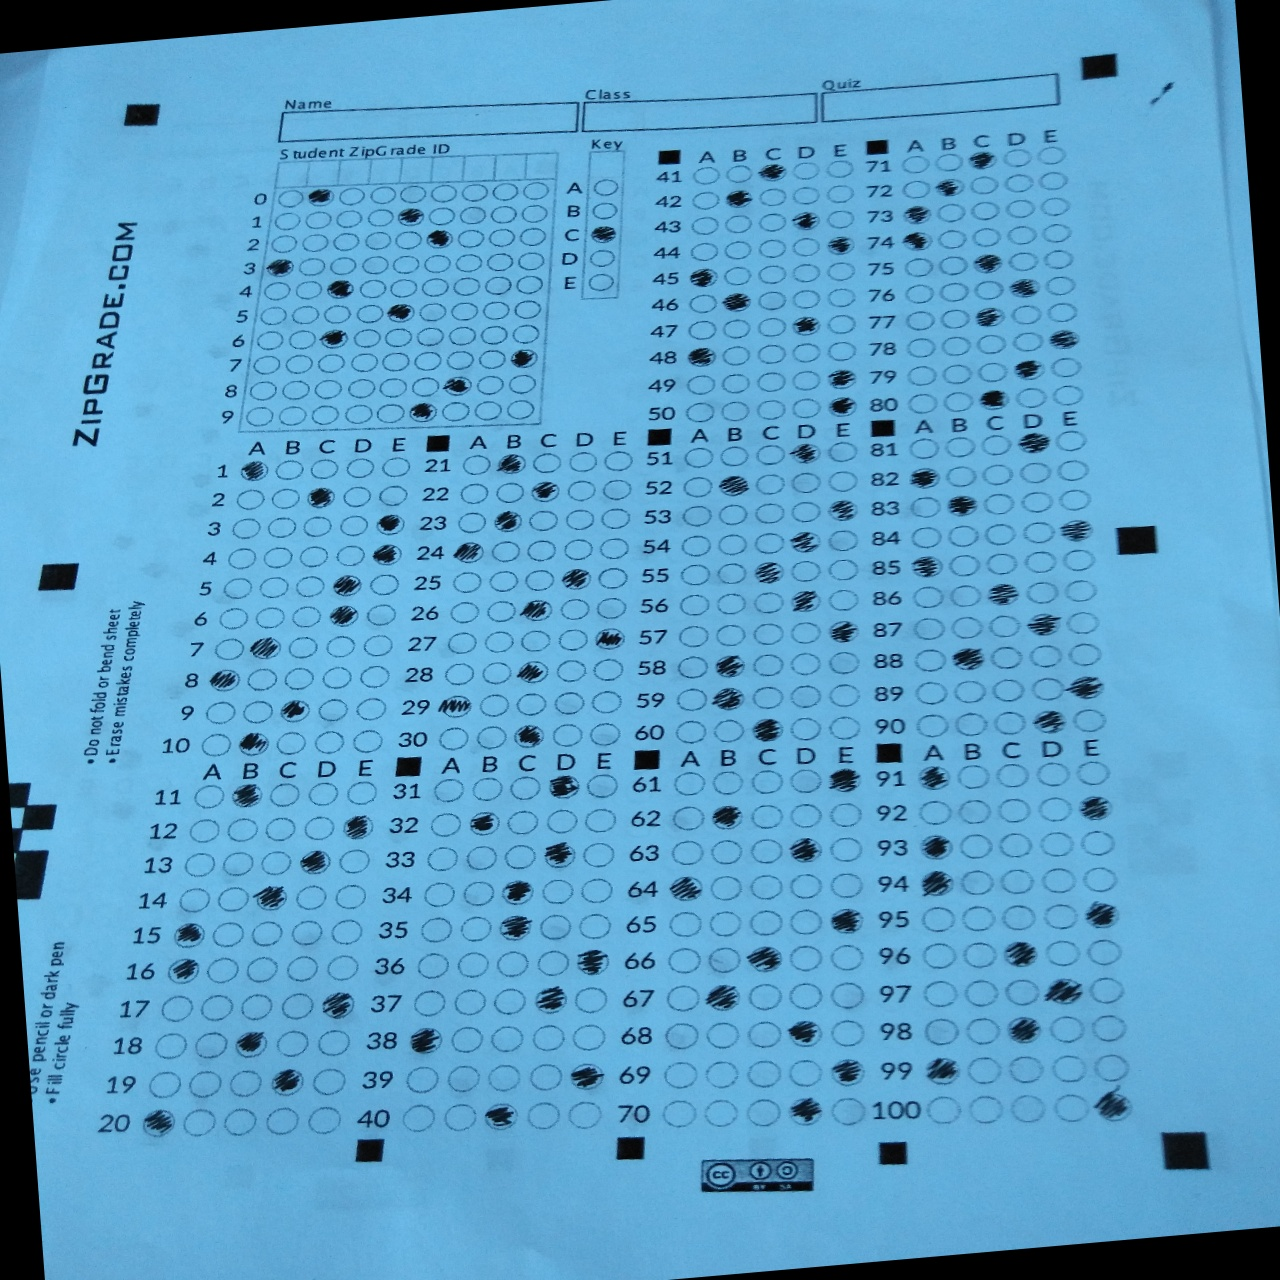not-c: (1006, 1051, 1047, 1087), (1090, 1051, 1132, 1085), (922, 1094, 964, 1126), (702, 1058, 741, 1092), (748, 765, 787, 799), (994, 760, 1033, 794), (828, 1095, 867, 1128), (828, 1017, 867, 1050), (745, 907, 785, 940), (745, 799, 785, 832), (1081, 863, 1121, 896), (1088, 1012, 1128, 1044), (965, 1092, 1005, 1125), (1007, 1092, 1047, 1125), (1051, 1092, 1091, 1125), (1048, 1053, 1088, 1085), (964, 1054, 1005, 1085), (955, 760, 993, 794), (744, 1096, 783, 1129), (707, 908, 745, 941), (706, 945, 744, 978), (745, 1017, 784, 1050), (826, 979, 865, 1012), (828, 942, 866, 975), (707, 872, 745, 905), (828, 799, 866, 832), (787, 799, 825, 832), (707, 835, 745, 867), (670, 768, 709, 801), (709, 767, 748, 799), (787, 765, 825, 798), (914, 796, 953, 829), (956, 829, 995, 862), (994, 795, 1033, 828), (1075, 756, 1114, 789), (959, 903, 998, 935), (920, 938, 959, 971), (1043, 937, 1082, 969), (1041, 899, 1080, 932), (999, 901, 1037, 934), (921, 978, 960, 1010), (787, 980, 826, 1012), (787, 942, 826, 974), (745, 871, 785, 903), (747, 835, 787, 866), (1039, 828, 1078, 859), (1046, 1014, 1085, 1046), (962, 1015, 1002, 1047), (921, 1016, 961, 1048), (577, 908, 614, 941), (413, 949, 450, 982), (744, 1057, 782, 1090), (787, 870, 824, 903), (828, 869, 865, 901), (956, 794, 994, 826), (996, 829, 1034, 862), (998, 865, 1035, 898), (962, 976, 1000, 1009), (785, 1058, 824, 1090), (662, 983, 701, 1015), (663, 946, 702, 978), (665, 908, 703, 940), (704, 1020, 743, 1051), (747, 980, 785, 1012), (787, 907, 825, 939), (828, 833, 866, 865), (668, 837, 707, 869), (668, 803, 707, 835), (1034, 760, 1073, 791), (1036, 794, 1075, 825), (1040, 864, 1078, 896), (958, 865, 996, 897), (920, 903, 959, 934), (1085, 935, 1124, 967), (1087, 974, 1125, 1006), (712, 619, 750, 651), (288, 917, 325, 949), (279, 990, 315, 1023), (573, 983, 610, 1016), (442, 1101, 478, 1133), (427, 810, 464, 842), (538, 911, 576, 942), (503, 806, 540, 838), (204, 954, 241, 986), (181, 1107, 218, 1138), (238, 990, 275, 1022), (264, 1104, 301, 1136), (400, 1103, 437, 1135), (524, 1099, 561, 1131), (565, 1099, 602, 1131), (493, 948, 531, 980), (701, 1096, 738, 1128), (663, 1058, 701, 1090), (663, 1020, 701, 1051), (1080, 826, 1117, 858), (960, 939, 998, 971), (912, 678, 949, 709), (987, 611, 1024, 642), (1062, 576, 1099, 607), (787, 712, 824, 743), (674, 653, 712, 685), (1065, 640, 1104, 670), (186, 1067, 222, 1099), (328, 915, 365, 947), (247, 918, 284, 949), (468, 772, 504, 804), (506, 772, 543, 804), (580, 839, 617, 871), (578, 873, 614, 905), (539, 877, 576, 908), (502, 842, 538, 873), (463, 842, 499, 873), (458, 913, 495, 945), (198, 993, 234, 1024), (159, 993, 196, 1024), (222, 1107, 258, 1138), (402, 1064, 438, 1096), (444, 1063, 481, 1095), (484, 1062, 520, 1094), (410, 987, 447, 1019), (491, 986, 527, 1017), (450, 1024, 486, 1056), (661, 1098, 697, 1130), (1002, 976, 1039, 1008), (949, 612, 986, 644), (826, 712, 863, 743), (908, 520, 945, 552), (421, 880, 458, 911), (282, 953, 320, 983), (324, 953, 361, 983), (309, 1065, 347, 1096), (306, 1105, 343, 1136), (571, 1022, 608, 1053), (530, 1023, 567, 1054), (990, 708, 1028, 738), (952, 709, 989, 740), (952, 678, 989, 708), (911, 644, 948, 674), (674, 685, 712, 715), (787, 617, 824, 647), (431, 775, 467, 806), (583, 806, 618, 838), (154, 1030, 189, 1062), (193, 1029, 229, 1061), (229, 1068, 264, 1099), (274, 1027, 309, 1058), (315, 1027, 350, 1058), (544, 806, 580, 837), (459, 878, 496, 908), (209, 919, 245, 949), (533, 947, 570, 978), (454, 949, 490, 980), (452, 987, 489, 1017), (490, 1023, 526, 1054), (990, 674, 1027, 704), (1073, 704, 1109, 735), (751, 619, 788, 649), (913, 712, 951, 741), (910, 614, 947, 644), (1026, 641, 1063, 670), (710, 716, 748, 745), (673, 716, 710, 745), (674, 622, 712, 652), (910, 583, 947, 612), (749, 651, 787, 680), (418, 915, 454, 946), (424, 844, 459, 874), (584, 770, 619, 801), (529, 1062, 564, 1092), (1030, 673, 1065, 703), (147, 1070, 183, 1099), (245, 955, 281, 985), (988, 644, 1024, 673), (1064, 608, 1101, 638), (714, 590, 750, 619), (676, 591, 713, 620), (826, 586, 863, 615), (312, 728, 347, 757), (273, 729, 308, 758), (482, 628, 517, 658), (447, 599, 482, 628), (333, 883, 368, 912), (826, 648, 862, 678), (788, 682, 823, 712), (787, 649, 823, 678), (749, 685, 785, 713), (788, 469, 825, 496), (824, 467, 862, 493), (680, 444, 717, 471), (588, 688, 622, 717), (306, 779, 340, 809), (192, 783, 227, 811), (436, 724, 471, 753), (549, 720, 584, 748), (479, 659, 515, 687), (442, 660, 477, 688), (591, 656, 626, 685), (444, 629, 479, 658), (302, 813, 338, 842), (225, 816, 260, 844), (177, 886, 212, 914), (216, 886, 251, 914), (258, 849, 293, 877), (826, 681, 862, 709), (751, 588, 787, 617), (788, 558, 824, 585), (714, 559, 750, 586), (678, 560, 714, 587), (678, 532, 714, 559), (825, 527, 862, 554), (947, 583, 983, 610), (1024, 580, 1061, 607), (947, 552, 983, 579), (945, 522, 981, 549), (981, 520, 1017, 547), (1021, 518, 1057, 545), (1019, 489, 1055, 516), (981, 491, 1017, 518), (980, 462, 1016, 489), (942, 464, 979, 491), (907, 436, 944, 463), (978, 431, 1014, 458), (1055, 456, 1091, 483), (1015, 459, 1051, 486), (789, 497, 825, 524), (753, 499, 789, 526), (714, 501, 750, 527), (678, 503, 714, 530), (680, 475, 716, 502), (824, 438, 860, 465), (754, 441, 790, 468), (717, 442, 754, 469), (282, 663, 316, 692), (350, 727, 384, 755), (199, 731, 233, 760), (474, 723, 508, 751), (588, 721, 622, 749), (553, 689, 587, 717), (515, 690, 549, 719), (554, 627, 588, 655), (593, 594, 627, 622), (524, 567, 558, 595), (188, 817, 222, 845), (295, 883, 329, 911), (518, 628, 553, 655), (483, 599, 518, 626), (264, 816, 299, 843), (219, 850, 254, 877), (825, 557, 860, 584), (715, 531, 750, 558), (1023, 549, 1058, 576), (1061, 549, 1096, 576), (983, 551, 1019, 578), (942, 433, 978, 459), (1053, 427, 1088, 454), (1057, 486, 1092, 513), (908, 493, 944, 520), (753, 472, 789, 498), (268, 781, 301, 809), (225, 545, 259, 572), (287, 634, 321, 661), (358, 663, 392, 690), (477, 693, 511, 720), (554, 658, 588, 685), (595, 564, 629, 591), (343, 779, 377, 806), (183, 851, 217, 878), (338, 847, 372, 874), (753, 530, 787, 557), (294, 573, 327, 600), (321, 665, 354, 692), (241, 697, 274, 724), (557, 595, 590, 622), (486, 567, 519, 594), (599, 506, 632, 533), (457, 481, 490, 508), (493, 478, 526, 505), (567, 450, 600, 477), (686, 290, 719, 316), (903, 256, 935, 282), (975, 331, 1008, 358), (1037, 168, 1070, 195), (324, 633, 358, 659), (361, 632, 395, 658), (245, 666, 279, 692), (563, 508, 597, 533), (526, 508, 560, 533), (530, 450, 564, 476), (459, 451, 493, 477), (719, 342, 753, 368), (685, 318, 719, 343), (788, 287, 822, 313), (937, 278, 971, 304), (971, 225, 1005, 251), (935, 200, 969, 226), (1001, 145, 1035, 171), (1002, 170, 1036, 196), (968, 172, 1002, 198), (899, 177, 933, 203), (898, 151, 932, 177), (790, 234, 824, 260), (688, 238, 722, 264), (687, 212, 721, 238), (217, 606, 248, 633), (722, 159, 754, 186), (343, 455, 376, 481), (234, 486, 267, 512), (366, 602, 399, 628), (290, 604, 322, 629), (213, 636, 246, 662), (203, 700, 236, 726), (316, 697, 349, 723), (354, 696, 387, 722), (450, 570, 483, 595), (561, 537, 594, 563), (597, 536, 629, 561), (455, 510, 488, 536), (565, 478, 598, 504), (601, 477, 634, 503), (602, 448, 635, 474), (719, 399, 751, 424), (754, 396, 787, 422), (789, 395, 822, 421), (790, 340, 823, 366), (719, 369, 751, 395), (683, 372, 716, 397), (721, 316, 754, 342), (823, 285, 856, 311), (907, 390, 940, 416), (941, 389, 974, 415), (904, 365, 937, 390), (903, 281, 935, 307), (978, 360, 1010, 386), (1050, 354, 1083, 380), (972, 277, 1005, 302), (1008, 248, 1041, 274), (1006, 222, 1039, 247), (967, 197, 1000, 223), (1036, 143, 1069, 169), (688, 188, 721, 213), (823, 259, 857, 284), (721, 263, 755, 287), (932, 150, 966, 175), (788, 158, 823, 182), (380, 454, 411, 479), (258, 574, 290, 600), (253, 605, 285, 631), (489, 539, 520, 565), (525, 538, 557, 564), (685, 400, 716, 425), (791, 368, 823, 394), (825, 312, 857, 338), (756, 369, 788, 395), (755, 341, 787, 367), (756, 314, 788, 340), (939, 305, 971, 331), (1002, 195, 1034, 220), (1037, 193, 1069, 219), (270, 486, 302, 511), (229, 516, 261, 540), (301, 515, 334, 539), (334, 543, 367, 567), (222, 576, 254, 600), (756, 288, 789, 313), (756, 261, 789, 286), (940, 362, 973, 387), (905, 336, 938, 361), (937, 253, 969, 278), (1015, 384, 1048, 409), (1050, 382, 1083, 407), (1010, 302, 1043, 327), (1044, 274, 1077, 299), (1040, 222, 1073, 246), (757, 236, 790, 260), (722, 238, 755, 263), (689, 163, 722, 188), (756, 185, 789, 210), (297, 545, 331, 568), (791, 261, 825, 285), (425, 204, 457, 229), (421, 251, 452, 275), (265, 515, 297, 539), (338, 513, 369, 538), (369, 572, 401, 597), (826, 340, 858, 365), (905, 309, 937, 334), (940, 334, 972, 359), (1042, 245, 1074, 270), (937, 226, 968, 251), (359, 252, 392, 275), (307, 458, 340, 482), (377, 484, 410, 508), (340, 484, 373, 508), (1012, 331, 1044, 354), (1046, 301, 1078, 325), (757, 209, 790, 232), (512, 298, 543, 322), (481, 298, 511, 322), (472, 399, 503, 423), (428, 182, 459, 205), (486, 204, 518, 227), (418, 275, 450, 299), (515, 273, 546, 297), (284, 352, 315, 375), (251, 353, 282, 376), (311, 377, 342, 401), (345, 377, 376, 401), (440, 400, 471, 423), (277, 404, 308, 428), (273, 458, 305, 482), (263, 545, 294, 568), (825, 157, 857, 181), (824, 207, 857, 230), (397, 182, 428, 205), (518, 202, 549, 225), (302, 209, 333, 232), (268, 232, 299, 256), (591, 177, 621, 200), (454, 252, 484, 275), (388, 277, 418, 300), (452, 274, 483, 298), (261, 280, 292, 304), (352, 327, 382, 350), (415, 325, 445, 348), (445, 324, 476, 347), (349, 350, 380, 374), (316, 352, 347, 375), (280, 379, 311, 402), (377, 375, 408, 399), (506, 372, 537, 395), (343, 402, 374, 425), (367, 184, 399, 206), (520, 179, 552, 202), (392, 229, 423, 251), (590, 200, 621, 223), (585, 271, 617, 293), (482, 274, 513, 297), (475, 374, 506, 396), (380, 349, 411, 372), (247, 379, 279, 401), (244, 406, 275, 428), (790, 185, 822, 207), (823, 183, 855, 205), (722, 213, 755, 234), (363, 229, 393, 252), (486, 225, 516, 248), (294, 278, 324, 301), (287, 327, 316, 350), (355, 302, 384, 326), (478, 324, 508, 347), (275, 188, 306, 210), (336, 185, 367, 207), (459, 181, 490, 203), (490, 181, 520, 203), (333, 207, 363, 230), (272, 210, 302, 232), (300, 232, 331, 254), (331, 231, 361, 253), (518, 226, 549, 248), (516, 250, 546, 272), (390, 253, 421, 275), (328, 256, 359, 278), (358, 278, 388, 300), (449, 300, 479, 322), (258, 305, 288, 327), (256, 329, 286, 352), (383, 327, 414, 349), (511, 324, 542, 346), (477, 348, 508, 370), (445, 349, 476, 372), (413, 350, 443, 373), (505, 399, 536, 421), (375, 403, 406, 425), (309, 403, 340, 425), (297, 256, 328, 277), (457, 204, 486, 226), (485, 251, 515, 273), (290, 302, 319, 325), (324, 302, 353, 325), (366, 207, 396, 229), (456, 229, 486, 250), (588, 248, 618, 270), (418, 302, 448, 324), (410, 377, 440, 399)
taken-c: (1092, 1090, 1136, 1126), (1001, 937, 1044, 973), (785, 1092, 826, 1128), (1044, 974, 1085, 1009), (1080, 899, 1124, 931), (1005, 1013, 1043, 1049), (922, 1055, 962, 1090), (1068, 670, 1109, 704), (531, 983, 571, 1017), (493, 911, 535, 944), (508, 721, 549, 754), (915, 829, 956, 862), (949, 644, 990, 676), (267, 1067, 307, 1099), (138, 1107, 178, 1139), (406, 1026, 445, 1058), (539, 839, 579, 872), (544, 772, 584, 805), (917, 867, 956, 900), (1029, 706, 1069, 738), (913, 763, 954, 795), (318, 990, 358, 1022), (231, 1029, 271, 1061), (481, 1099, 520, 1131), (573, 947, 613, 979), (497, 878, 537, 910), (463, 809, 503, 840), (1024, 607, 1064, 639), (985, 579, 1024, 611), (568, 1060, 606, 1092), (828, 905, 866, 937), (787, 1017, 825, 1049), (787, 835, 826, 865), (828, 1057, 867, 1088), (1076, 791, 1116, 822), (253, 883, 291, 914), (666, 873, 704, 904), (704, 982, 744, 1012), (164, 955, 202, 986), (709, 802, 747, 832), (748, 945, 785, 975), (1058, 516, 1097, 545), (297, 847, 334, 877), (169, 921, 206, 951), (908, 553, 946, 583), (907, 463, 945, 492), (944, 493, 982, 522), (248, 634, 285, 663), (207, 666, 244, 695), (236, 729, 272, 758), (488, 508, 524, 537), (750, 716, 787, 745), (828, 765, 864, 795), (277, 697, 314, 726), (229, 781, 266, 809), (339, 813, 376, 842), (438, 692, 474, 721), (513, 658, 549, 687), (592, 625, 627, 654), (520, 595, 556, 625), (451, 539, 486, 568), (492, 449, 527, 478), (787, 527, 823, 556), (789, 587, 825, 615), (826, 618, 863, 646), (971, 251, 1007, 279), (899, 200, 935, 229), (713, 653, 750, 680), (559, 565, 593, 594), (526, 478, 561, 506), (712, 685, 747, 713), (1012, 356, 1047, 384), (1016, 430, 1053, 457), (971, 304, 1007, 331), (1007, 275, 1043, 302), (899, 229, 935, 256), (933, 173, 969, 200), (965, 148, 1001, 175), (369, 542, 404, 568), (751, 559, 787, 586), (1047, 326, 1082, 353), (331, 572, 365, 599), (685, 343, 719, 370), (824, 365, 858, 392), (825, 394, 859, 421), (717, 472, 751, 499), (978, 387, 1012, 414), (787, 207, 822, 233), (788, 441, 823, 467), (825, 497, 860, 523), (327, 602, 360, 629), (788, 311, 821, 338), (721, 186, 755, 212), (685, 265, 719, 291), (720, 290, 754, 315), (823, 233, 858, 258), (587, 222, 620, 247), (373, 512, 406, 538), (756, 158, 789, 184), (304, 485, 338, 510), (325, 277, 358, 301), (441, 374, 474, 399), (407, 399, 440, 423), (238, 459, 271, 484), (394, 205, 425, 229), (265, 256, 297, 279), (386, 301, 417, 325), (509, 347, 540, 370), (305, 185, 338, 207), (319, 328, 350, 350), (424, 229, 455, 250)
